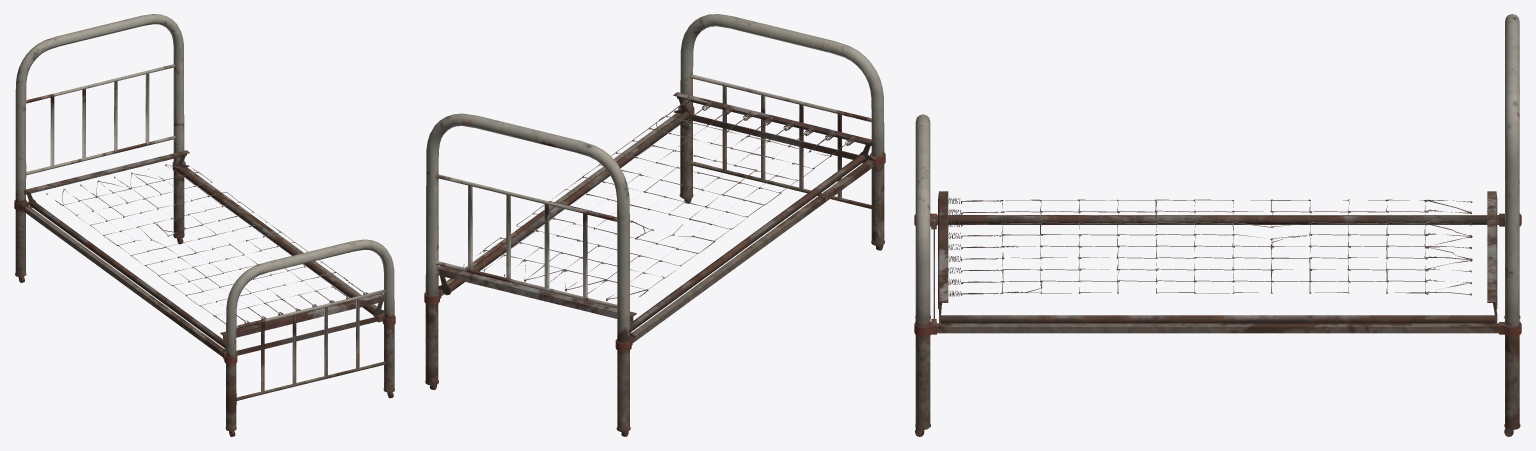
Rendered from old_bed_frame.glb.
3 views of the same model, side by side, from view 1: azimuth 30°, elevation 25°; view 2: azimuth 150°, elevation 25°; view 3: azimuth 270°, elevation 25° (orthographic). The views are drawn at different scales.
Visible parts, largest first — view 1: old_bed_frame; view 2: old_bed_frame; view 3: old_bed_frame.
Boxes of the visible parts, x1,y1,x2,y2 form: old_bed_frame: (14,14,395,436); old_bed_frame: (424,14,885,436); old_bed_frame: (914,14,1521,436).
Size of the model in its own units: 0.9047 by 1.2 by 2.
1 material, 1 textured.
